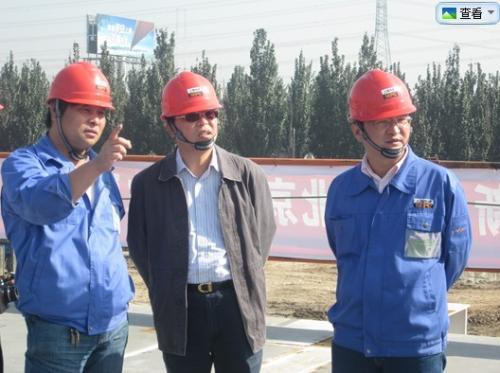helmet: (339, 57, 422, 165), (41, 50, 122, 160), (155, 63, 230, 158)
